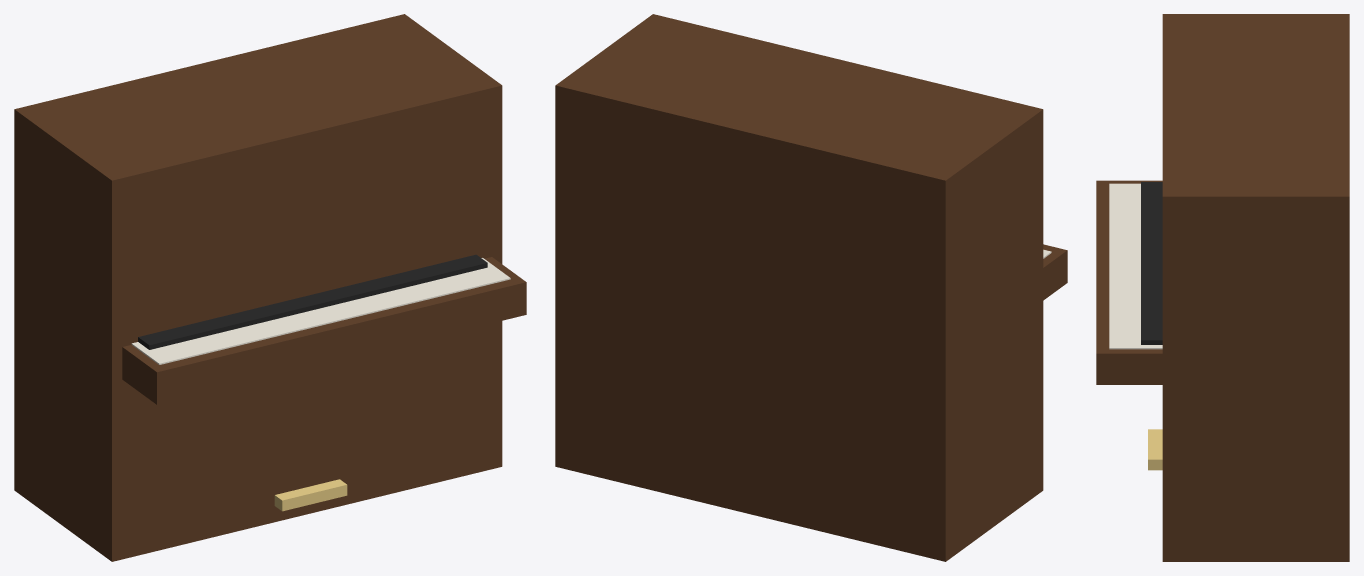
Rendered from saloon_upright_piano.glb.
The picture shows the model from 3 angles, left to right: view 1: azimuth 30°, elevation 25°; view 2: azimuth 150°, elevation 25°; view 3: azimuth 270°, elevation 25°; orthographic projection. The views are drawn at different scales.
Visible parts, largest first — view 1: Saloon_Upright_Piano; view 2: Saloon_Upright_Piano; view 3: Saloon_Upright_Piano.
Boxes of the visible parts, box(x1,y1,x2,y2) form: Saloon_Upright_Piano: box(14, 14, 526, 561); Saloon_Upright_Piano: box(555, 14, 1067, 561); Saloon_Upright_Piano: box(1096, 14, 1349, 561).
Size of the model in its own units: 1.5 by 1.4 by 0.88.
